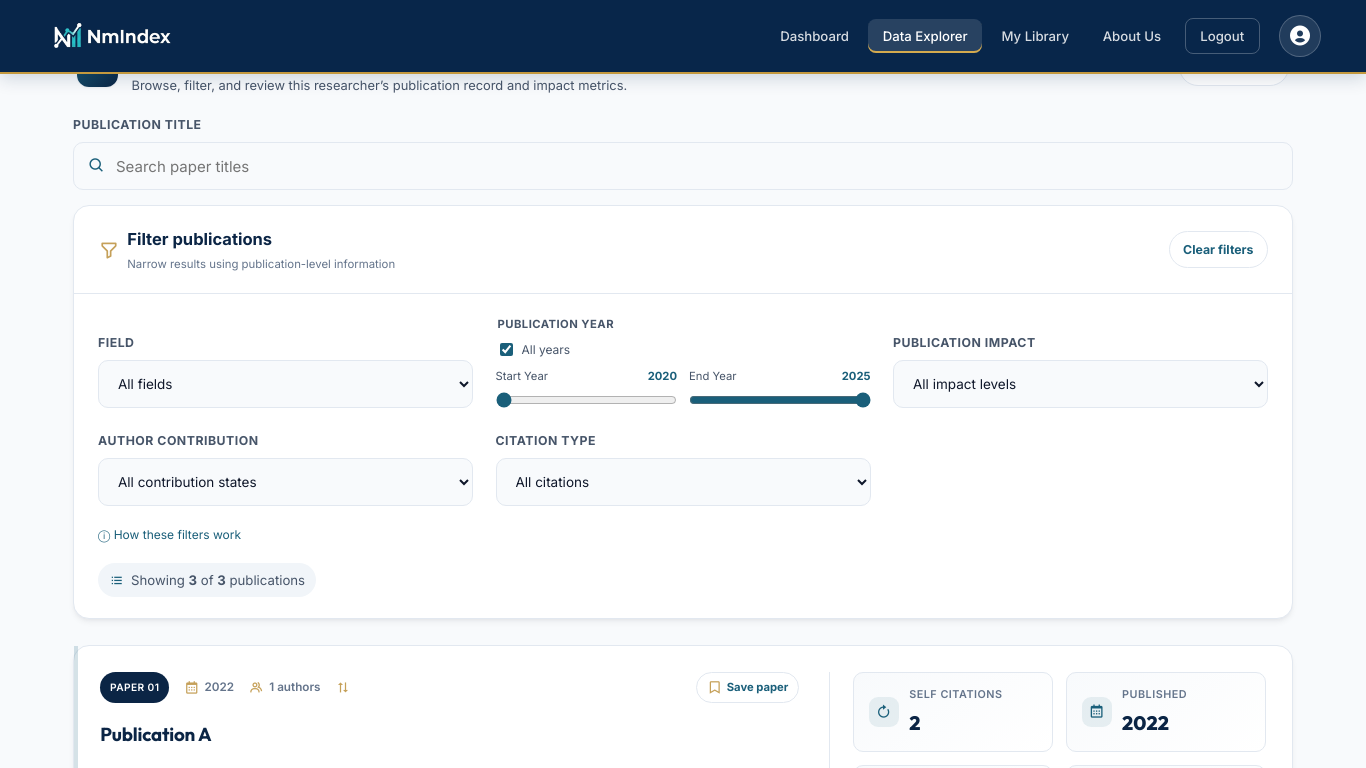
Test: clearing the filters restores the full list and the default controls
(page scrolled)
Expected: the heading "Publication A" is shown, [100, 722, 212, 746]
Select "Low Impact Papers" in the dropdown labelled "PUBLICATION IMPACT": (1080, 384) [893, 360, 1268, 408]
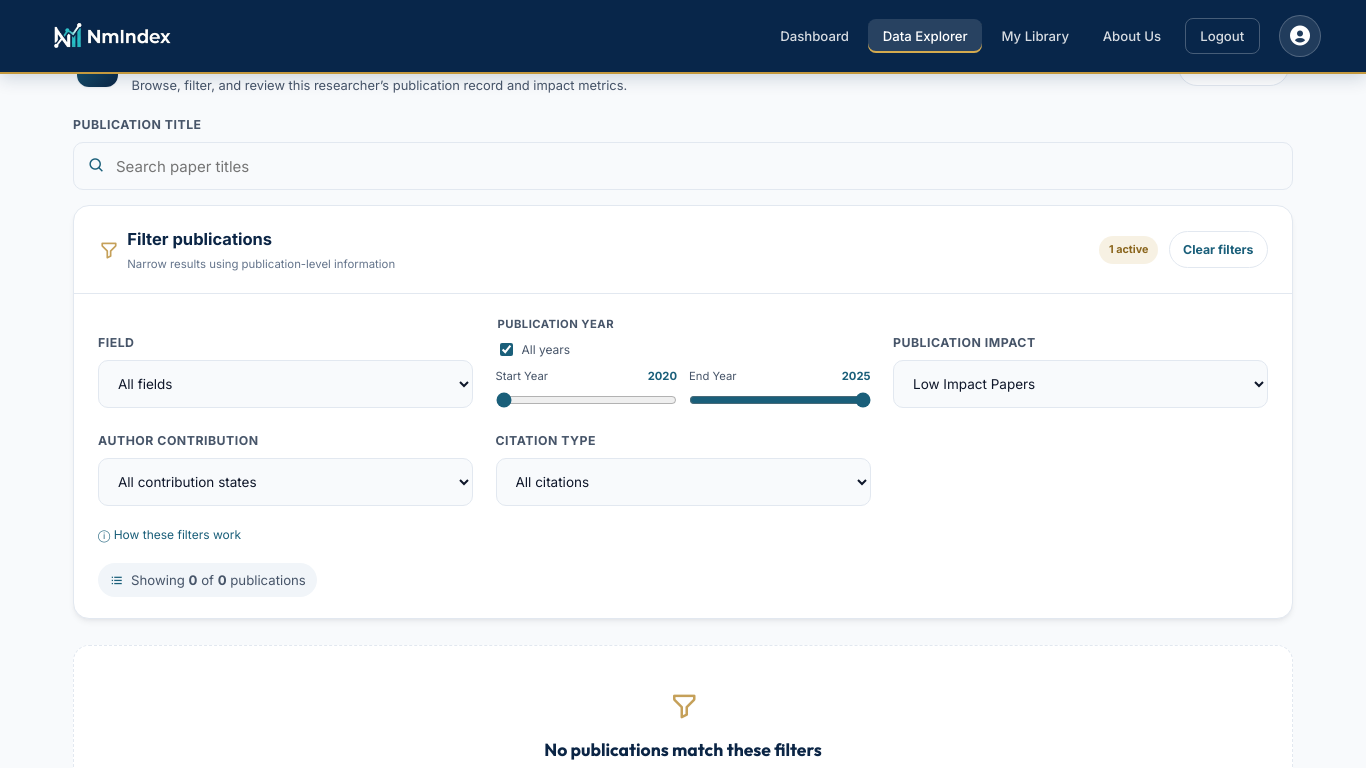
Now the heading "No publications match these filters" is shown, box [544, 738, 822, 761]
Click the button "Clear filters": (1218, 250) [1169, 231, 1268, 268]
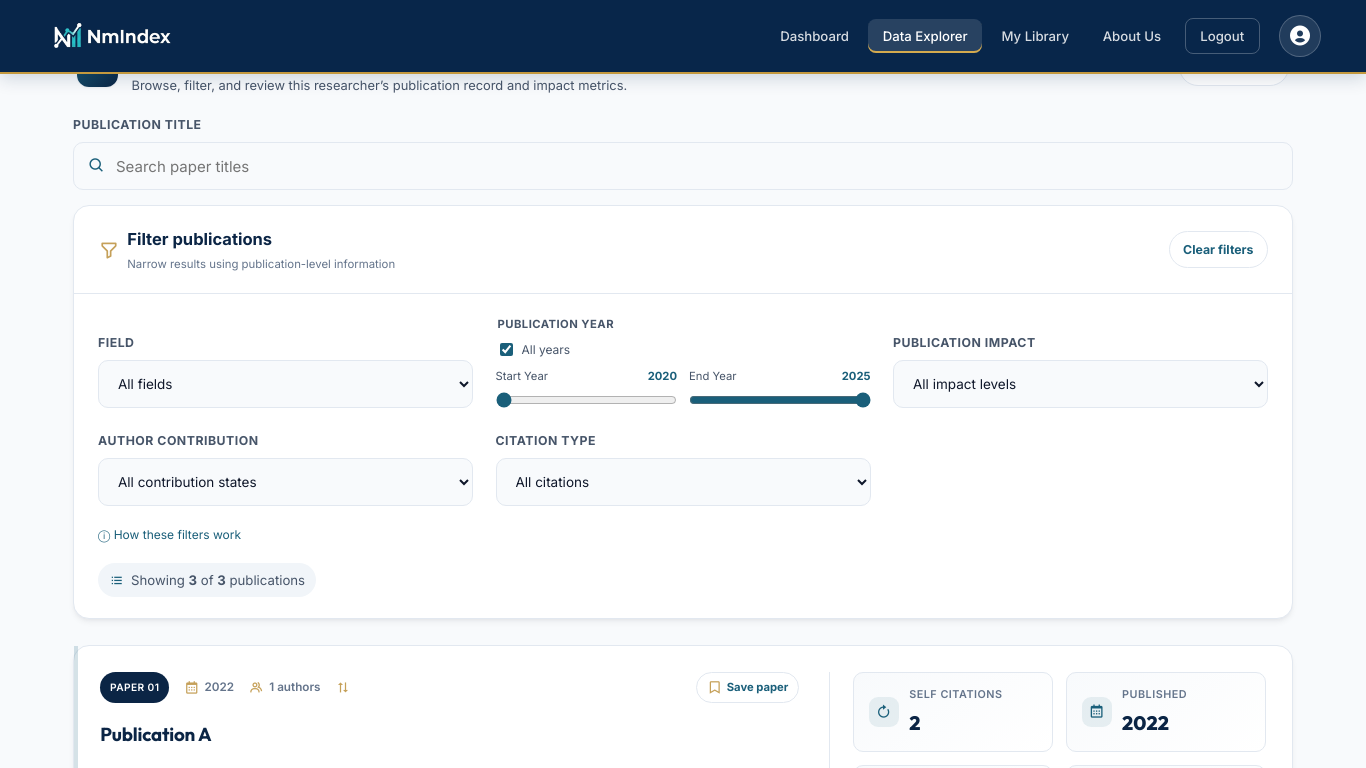
Expected: the checkbox labelled "All years" is checked, [500, 343, 512, 356]
Now the number of headings "Publication A" is 3
